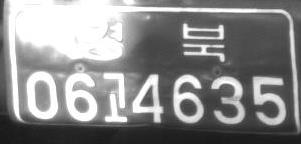0: (25, 68, 58, 120)
3: (211, 75, 245, 124)
4: (132, 72, 164, 123)
5: (251, 74, 286, 126)
6: (63, 71, 97, 121), (172, 73, 204, 123)
경북_D: (80, 21, 225, 63)
고: (102, 71, 127, 122)
